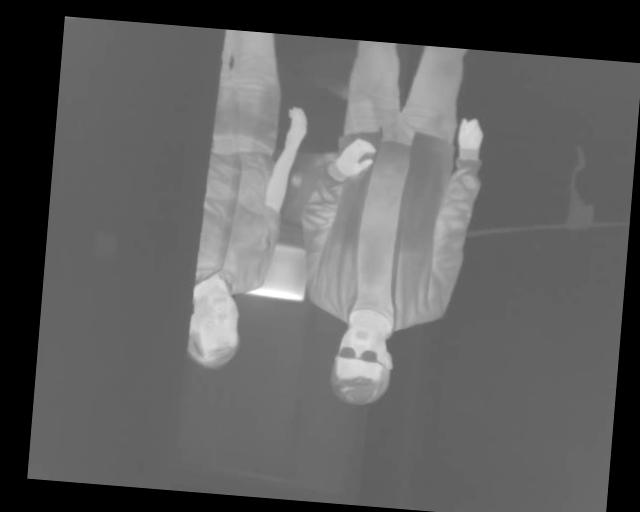face: (328, 320, 396, 408), (185, 288, 242, 371)
